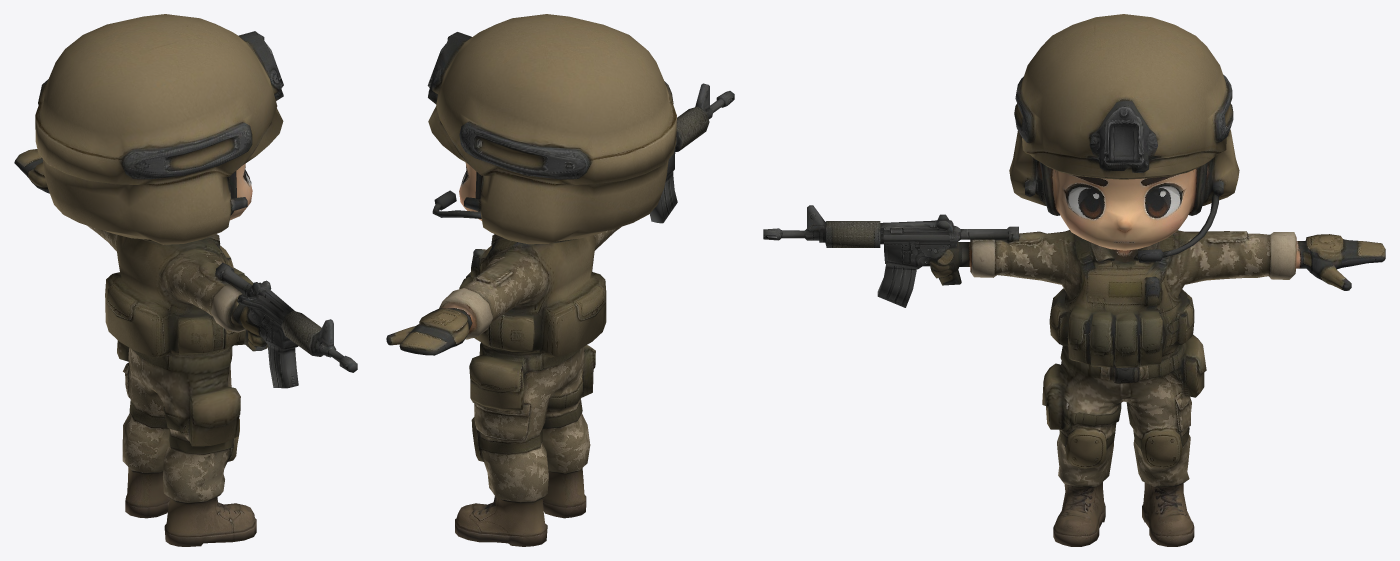
File: soldier.glb
3 renders of one model, left to right at view 1: azimuth 30°, elevation 25°; view 2: azimuth 150°, elevation 25°; view 3: azimuth 270°, elevation 25°, orthographic. The views are drawn at different scales.
Parts seen in each view (by area): view 1: tripo_node_47edc6cb-ee9d-4b9a-b596-2eac07a9442c; view 2: tripo_node_47edc6cb-ee9d-4b9a-b596-2eac07a9442c; view 3: tripo_node_47edc6cb-ee9d-4b9a-b596-2eac07a9442c.
Part boxes in pixels (<box>): tripo_node_47edc6cb-ee9d-4b9a-b596-2eac07a9442c: <box>14,14,357,546</box>; tripo_node_47edc6cb-ee9d-4b9a-b596-2eac07a9442c: <box>386,14,734,546</box>; tripo_node_47edc6cb-ee9d-4b9a-b596-2eac07a9442c: <box>763,14,1385,546</box>.
Size of the model in its own units: 0.4082 by 0.8535 by 0.998.
Materials: 1 (1 with a texture image).
